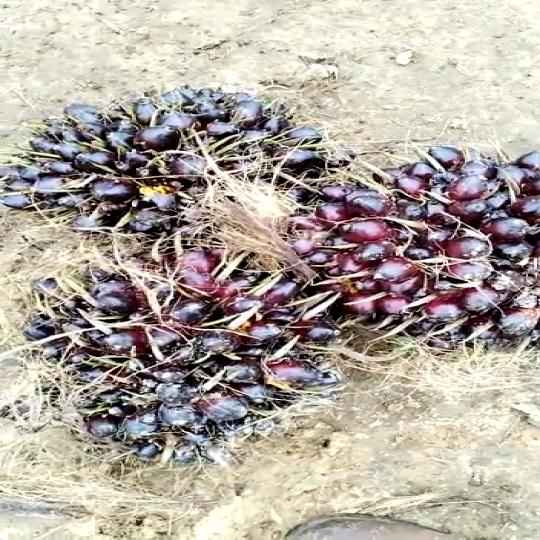mentah: (27, 257, 320, 488), (16, 80, 356, 243), (282, 148, 540, 348)
